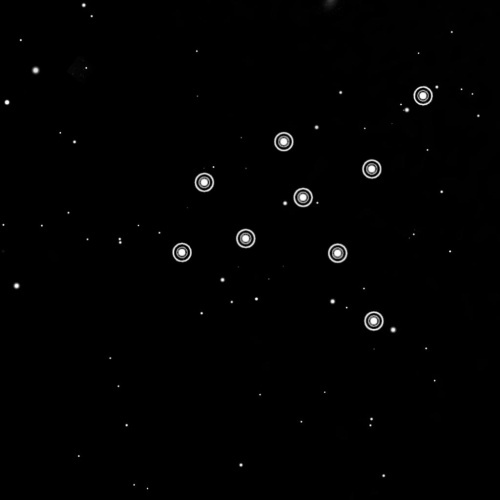cygnus: (169, 78, 439, 339)
